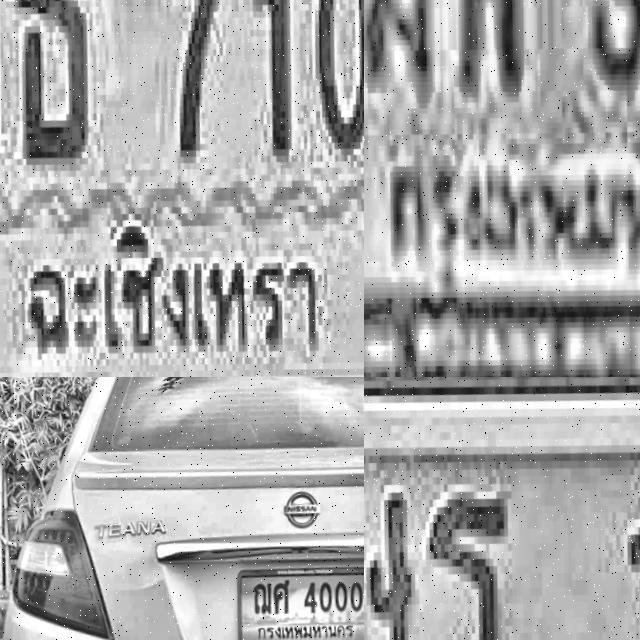license-plate: (0, 0, 364, 377), (364, 0, 640, 377), (364, 377, 640, 640), (224, 562, 364, 640)
